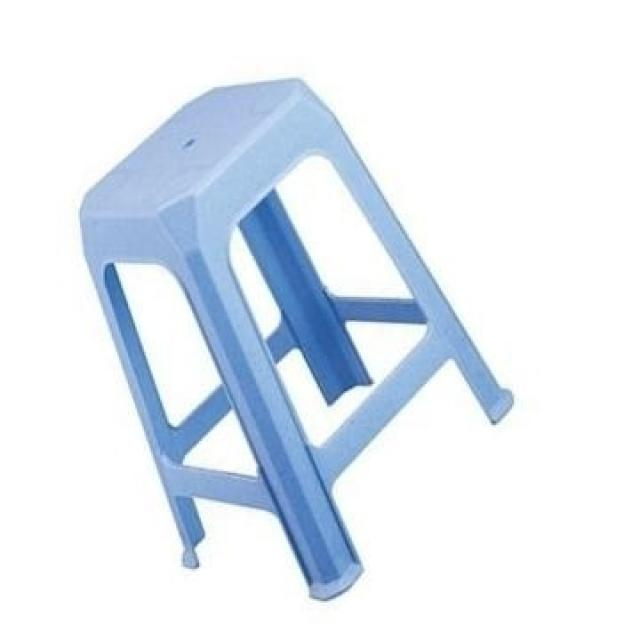Chair: (76, 75, 521, 601)
